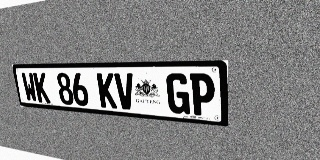6: (70, 73, 90, 106)
8: (56, 73, 74, 105)
G: (166, 73, 190, 115)
K: (96, 73, 117, 109), (33, 73, 51, 103)
P: (190, 73, 215, 117)
V: (114, 73, 136, 110)
W: (21, 73, 38, 102)
